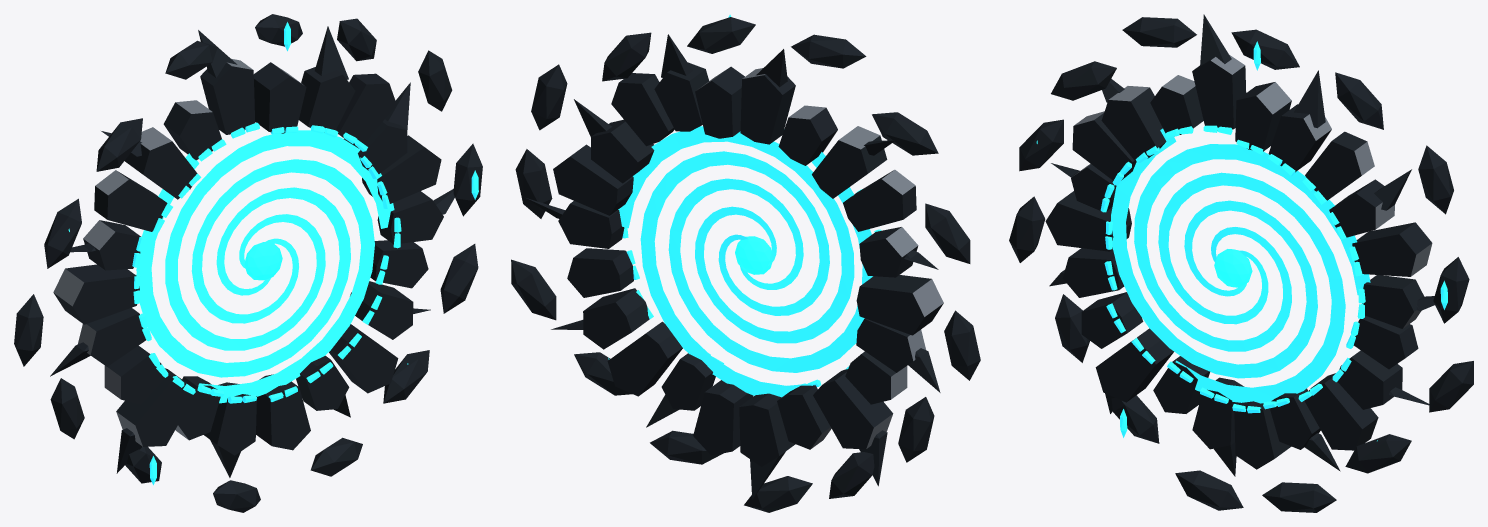
File: Portal_Final.fbx
3 renders of one model, left to right at view 1: azimuth 30°, elevation 25°; view 2: azimuth 150°, elevation 25°; view 3: azimuth 330°, elevation 25°, orthographic.
Visible parts, largest first — view 1: Portal_Frame_Mesh, Portal_CoreReference_Mesh, Portal_Fragments_13_Mesh, Portal_Fragments_06_Mesh, Portal_Fragments_05_Mesh, Portal_Fragments_07_Mesh, Portal_Fragments_00_Mesh, Portal_Fragments_12_Mesh, Portal_Fragments_08_Mesh, Portal_Fragments_01_Mesh, Portal_Fragments_04_Mesh, Portal_Fragments_11_Mesh (+4 smaller); view 2: Portal_Frame_Mesh, Portal_CoreReference_Mesh, Portal_Fragments_13_Mesh, Portal_Fragments_06_Mesh, Portal_Fragments_05_Mesh, Portal_Fragments_07_Mesh, Portal_Fragments_04_Mesh, Portal_Fragments_00_Mesh, Portal_Fragments_03_Mesh, Portal_Fragments_01_Mesh, Portal_Fragments_08_Mesh, Portal_Fragments_02_Mesh (+4 smaller); view 3: Portal_Frame_Mesh, Portal_CoreReference_Mesh, Portal_Fragments_03_Mesh, Portal_Fragments_04_Mesh, Portal_Fragments_11_Mesh, Portal_Fragments_10_Mesh, Portal_Fragments_12_Mesh, Portal_Fragments_05_Mesh, Portal_Fragments_02_Mesh, Portal_Fragments_01_Mesh, Portal_Fragments_13_Mesh, Portal_Fragments_06_Mesh (+4 smaller).
Part boxes in pixels (bbox=[...]): Portal_Frame_Mesh: bbox=[50, 26, 454, 477]; Portal_CoreReference_Mesh: bbox=[136, 130, 394, 403]; Portal_Fragments_13_Mesh: bbox=[440, 244, 478, 313]; Portal_Fragments_06_Mesh: bbox=[44, 198, 81, 268]; Portal_Fragments_05_Mesh: bbox=[96, 118, 142, 171]; Portal_Fragments_07_Mesh: bbox=[14, 294, 43, 366]; Portal_Fragments_00_Mesh: bbox=[453, 143, 482, 216]; Portal_Fragments_12_Mesh: bbox=[383, 350, 429, 403]; Portal_Fragments_08_Mesh: bbox=[50, 378, 84, 439]; Portal_Fragments_01_Mesh: bbox=[418, 50, 452, 111]; Portal_Fragments_04_Mesh: bbox=[165, 40, 217, 79]; Portal_Fragments_11_Mesh: bbox=[310, 437, 362, 476]; Portal_Frame_Mesh: bbox=[525, 34, 943, 499]; Portal_CoreReference_Mesh: bbox=[618, 126, 872, 397]; Portal_Fragments_13_Mesh: bbox=[511, 259, 556, 320]; Portal_Fragments_06_Mesh: bbox=[925, 203, 970, 263]; Portal_Fragments_05_Mesh: bbox=[872, 112, 938, 155]; Portal_Fragments_07_Mesh: bbox=[944, 310, 980, 380]; Portal_Fragments_04_Mesh: bbox=[791, 34, 866, 68]; Portal_Fragments_00_Mesh: bbox=[515, 149, 552, 218]; Portal_Fragments_03_Mesh: bbox=[687, 14, 755, 53]; Portal_Fragments_01_Mesh: bbox=[531, 64, 567, 130]; Portal_Fragments_08_Mesh: bbox=[898, 397, 934, 462]; Portal_Fragments_02_Mesh: bbox=[602, 32, 651, 81]; Portal_Frame_Mesh: bbox=[1045, 14, 1434, 476]; Portal_CoreReference_Mesh: bbox=[1111, 128, 1370, 403]; Portal_Fragments_03_Mesh: bbox=[1231, 29, 1299, 70]; Portal_Fragments_04_Mesh: bbox=[1122, 17, 1196, 47]; Portal_Fragments_11_Mesh: bbox=[1262, 482, 1336, 512]; Portal_Fragments_10_Mesh: bbox=[1175, 470, 1243, 510]; Portal_Fragments_12_Mesh: bbox=[1345, 434, 1411, 473]; Portal_Fragments_05_Mesh: bbox=[1051, 61, 1116, 100]; Portal_Fragments_02_Mesh: bbox=[1335, 72, 1383, 129]; Portal_Fragments_01_Mesh: bbox=[1418, 145, 1453, 214]; Portal_Fragments_13_Mesh: bbox=[1429, 361, 1473, 412]; Portal_Fragments_06_Mesh: bbox=[1019, 119, 1063, 171].
Bounding box in the file's own units: 1.24 × 1.25 × 0.1671.
